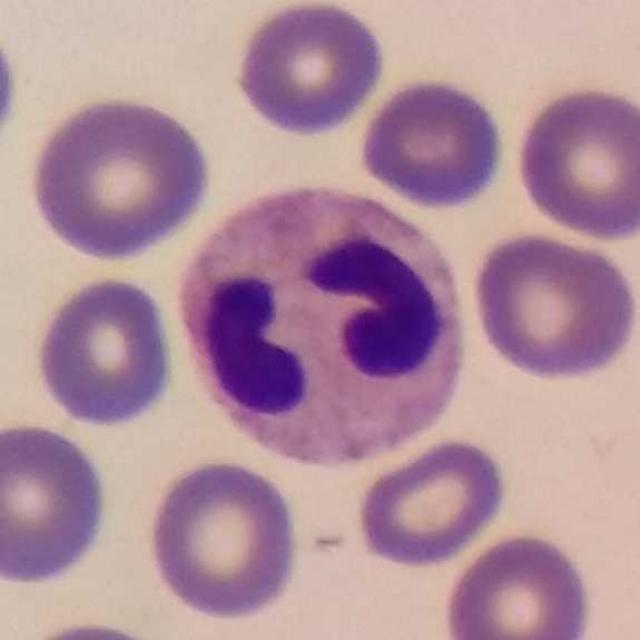Neutrophil: (162, 168, 481, 483)
RBC: (22, 89, 217, 264), (142, 456, 305, 624), (467, 228, 640, 384), (30, 270, 179, 432), (228, 0, 390, 140), (356, 72, 510, 214), (353, 434, 512, 570), (511, 83, 640, 244), (0, 417, 115, 590), (438, 528, 596, 640), (24, 615, 161, 640)
